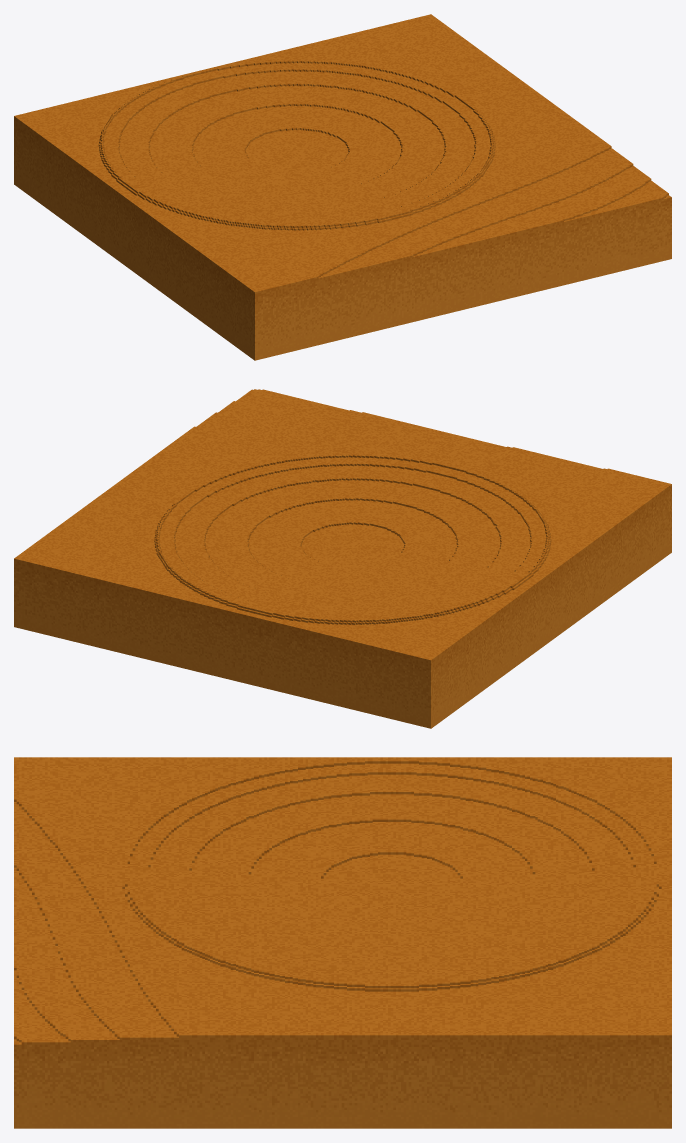
Rendered from Marte-6.obj.
3 renders of one model, top to bottom at view 1: azimuth 30°, elevation 25°; view 2: azimuth 150°, elevation 25°; view 3: azimuth 270°, elevation 25°, orthographic. The views are drawn at different scales.
Bounding box in the file's own units: 25.5 × 4.2 × 25.5.
1 material, 1 textured.
